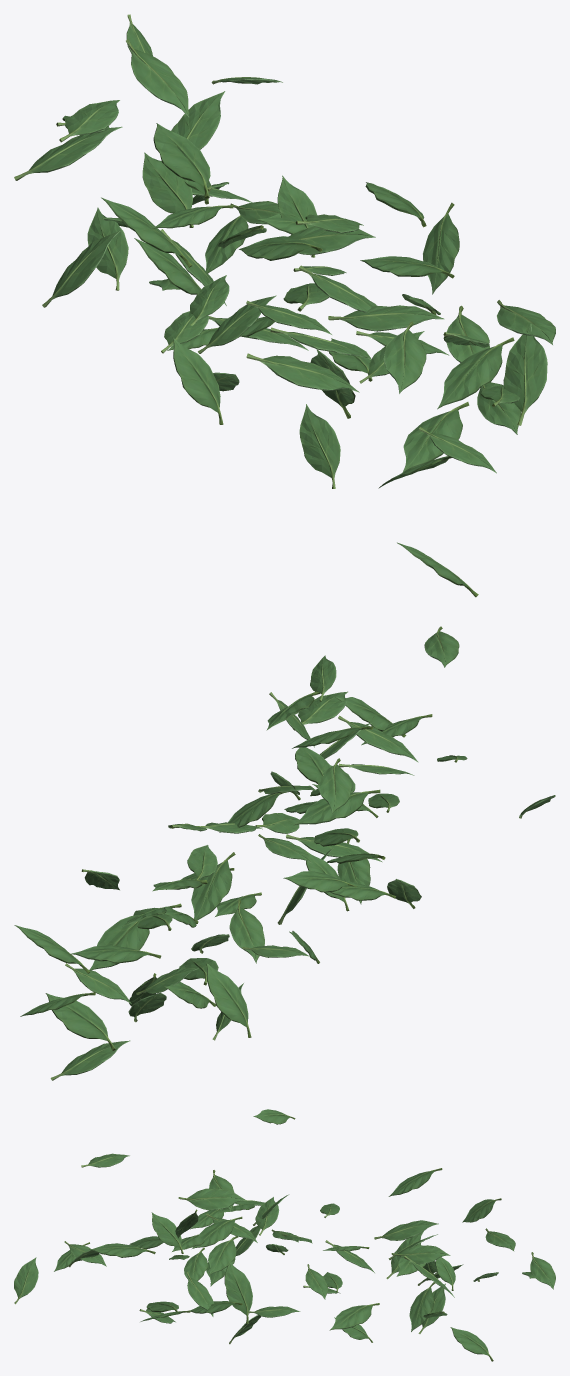
File: holy_canopy10_complete.glb
3 renders of one model, top to bottom at view 1: azimuth 30°, elevation 25°; view 2: azimuth 150°, elevation 25°; view 3: azimuth 270°, elevation 25°, orthographic. The views are drawn at different scales.
Visible parts, largest first — view 1: holy_canopy10; view 2: holy_canopy10; view 3: holy_canopy10.
Boxes of the visible parts, x1,y1,x2,y2 form: holy_canopy10: (14,14,555,597); holy_canopy10: (14,626,555,1080); holy_canopy10: (14,1109,555,1361).
Bounding box in the file's own units: 7.7 × 10.52 × 23.41.
1 material, 1 textured.
